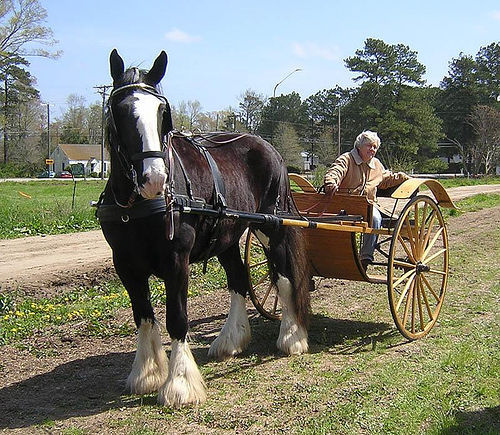horse: (97, 50, 314, 414)
